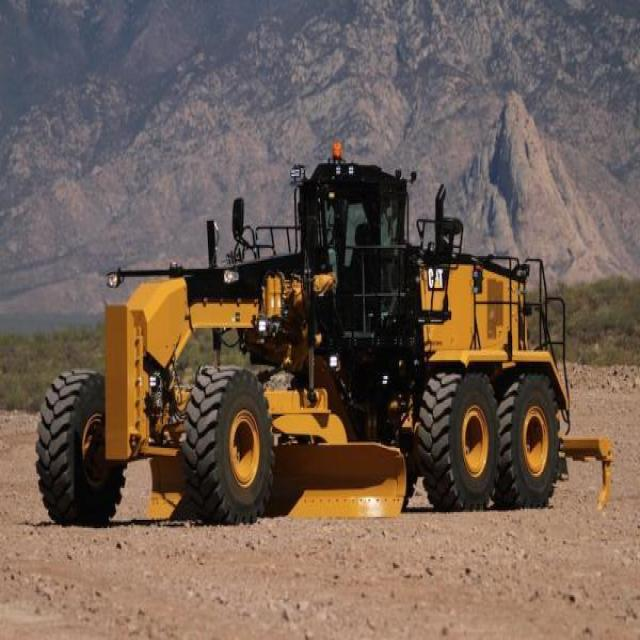buldozerpayloadergrader: (38, 149, 616, 523)
